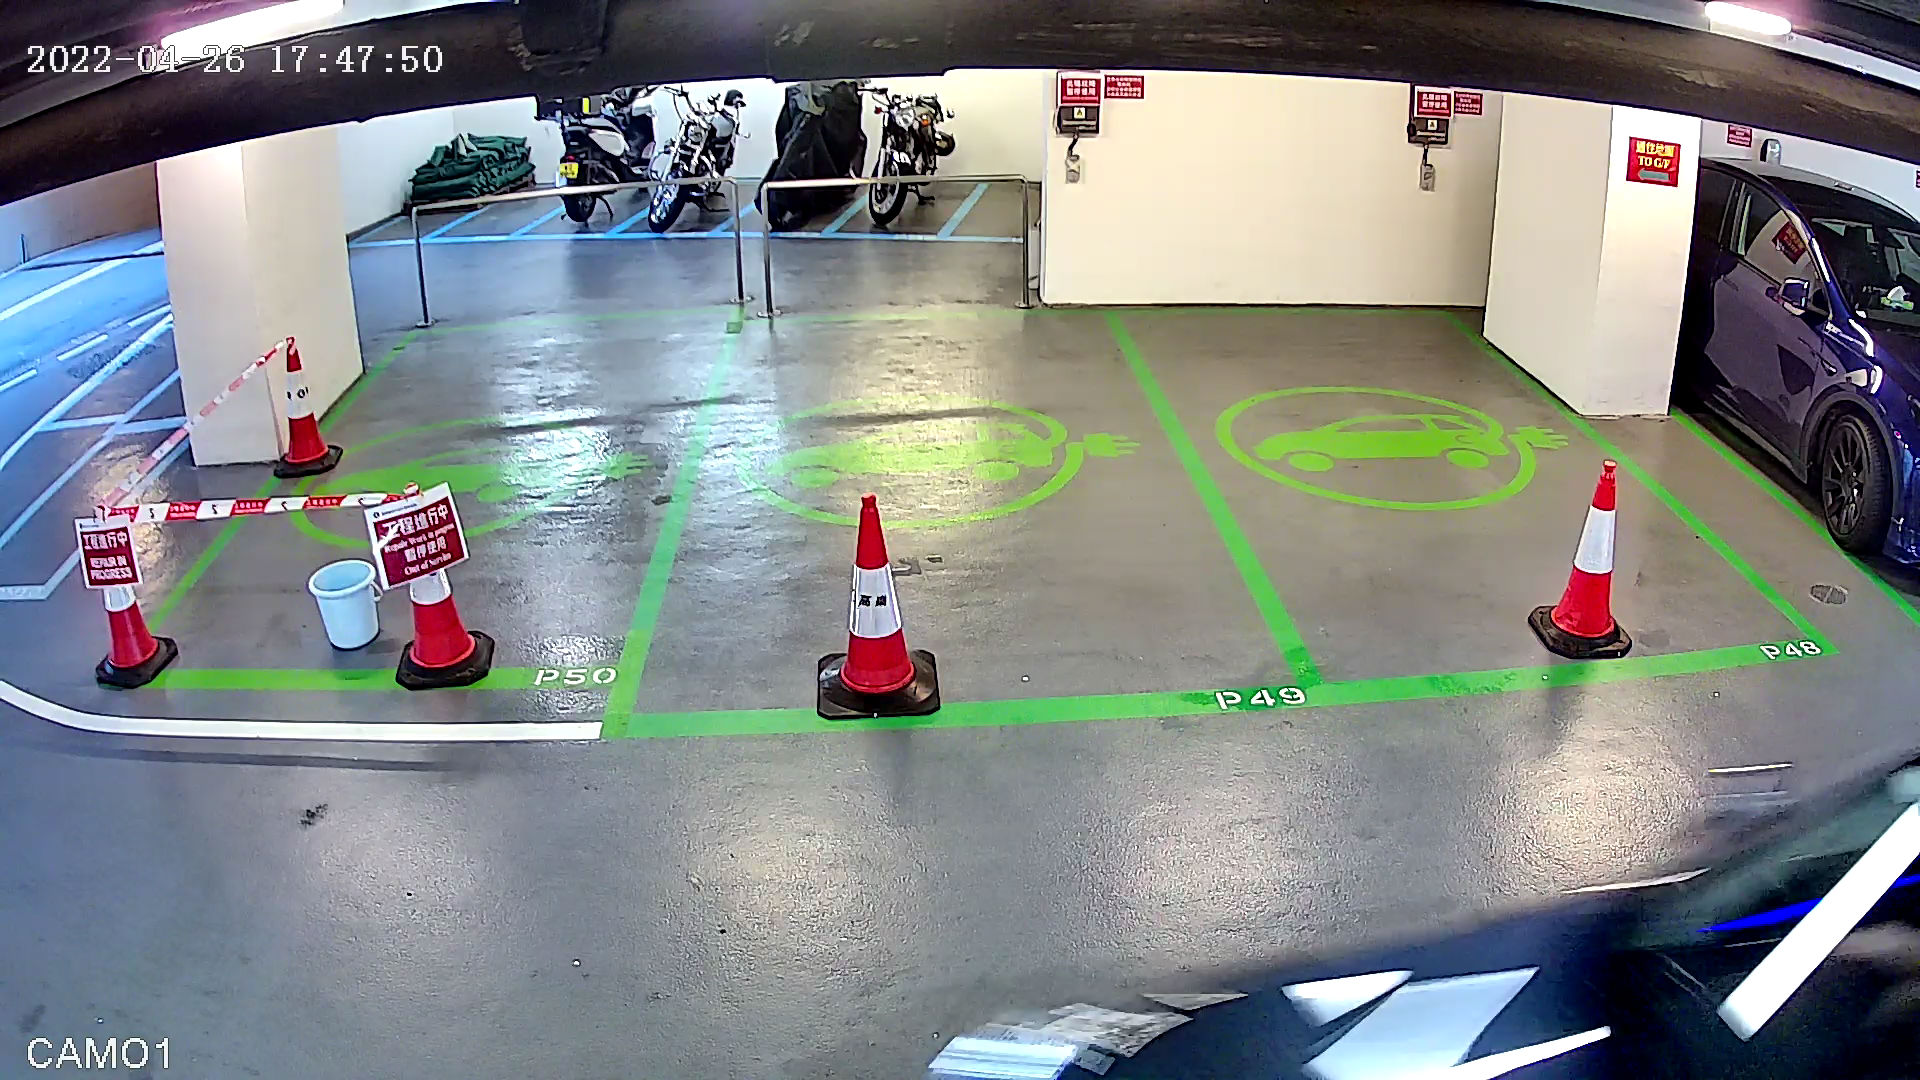space: (572, 268, 1338, 774), (1076, 247, 1853, 727)
